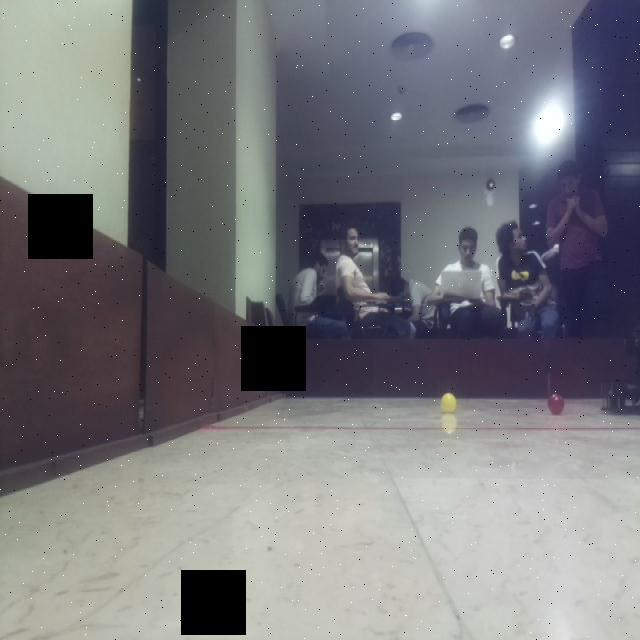ball: (545, 388, 570, 418), (437, 389, 459, 415)
